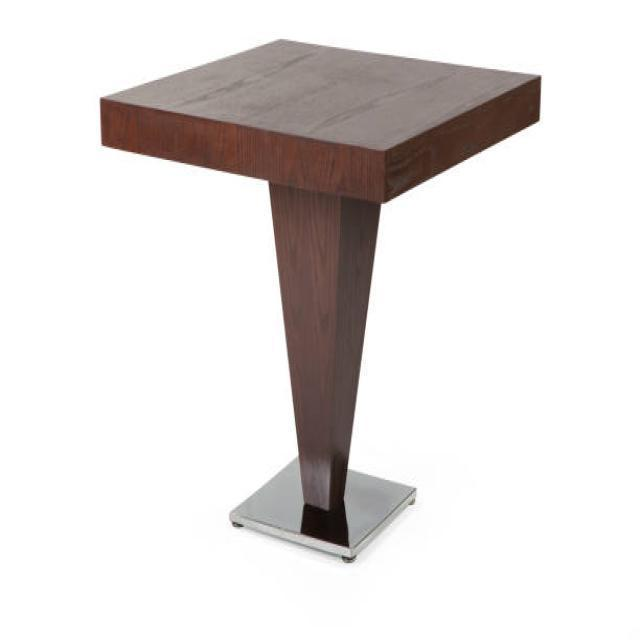table: (99, 34, 542, 564)
